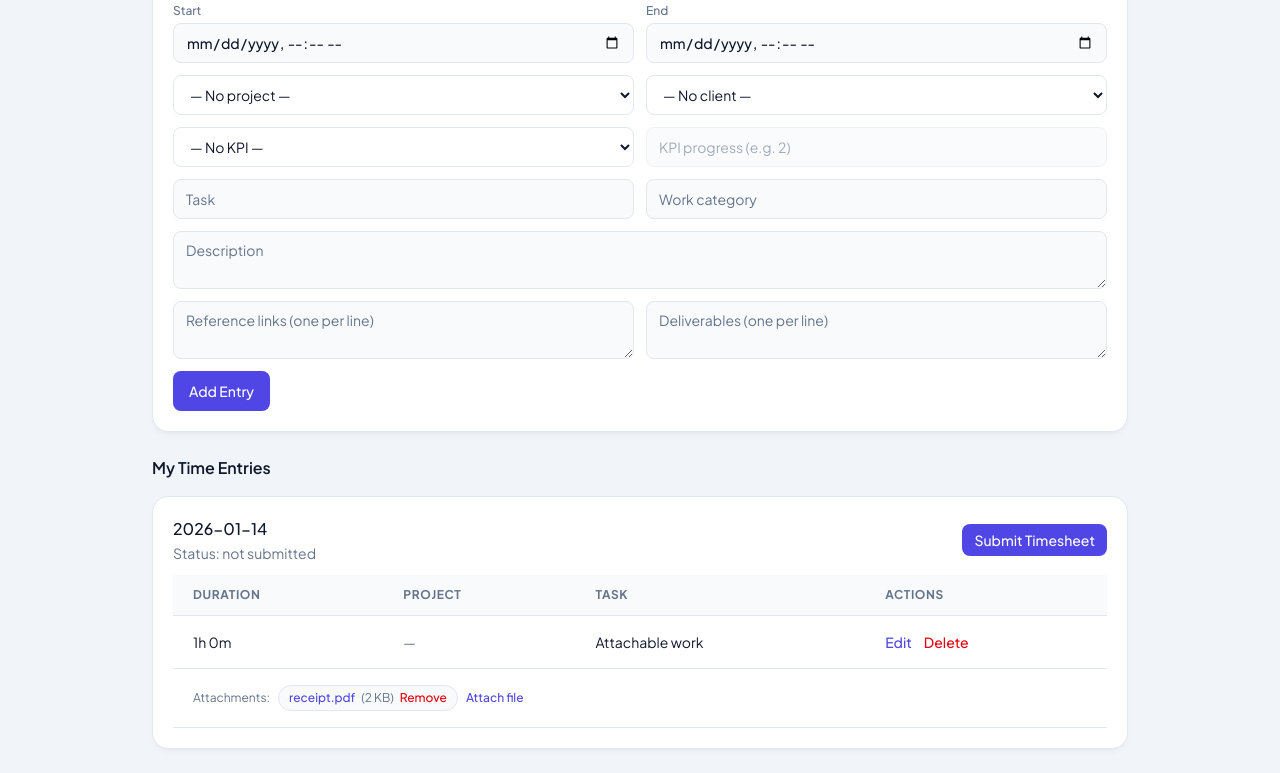
Test: TimeTrackingPage › removes an attachment from an editable entry
The image size is (1280, 773).
(page scrolled)
Step 1. Click the button "Remove" → {"x": 423, "y": 698}, box [400,690,447,706]
(page scrolled)
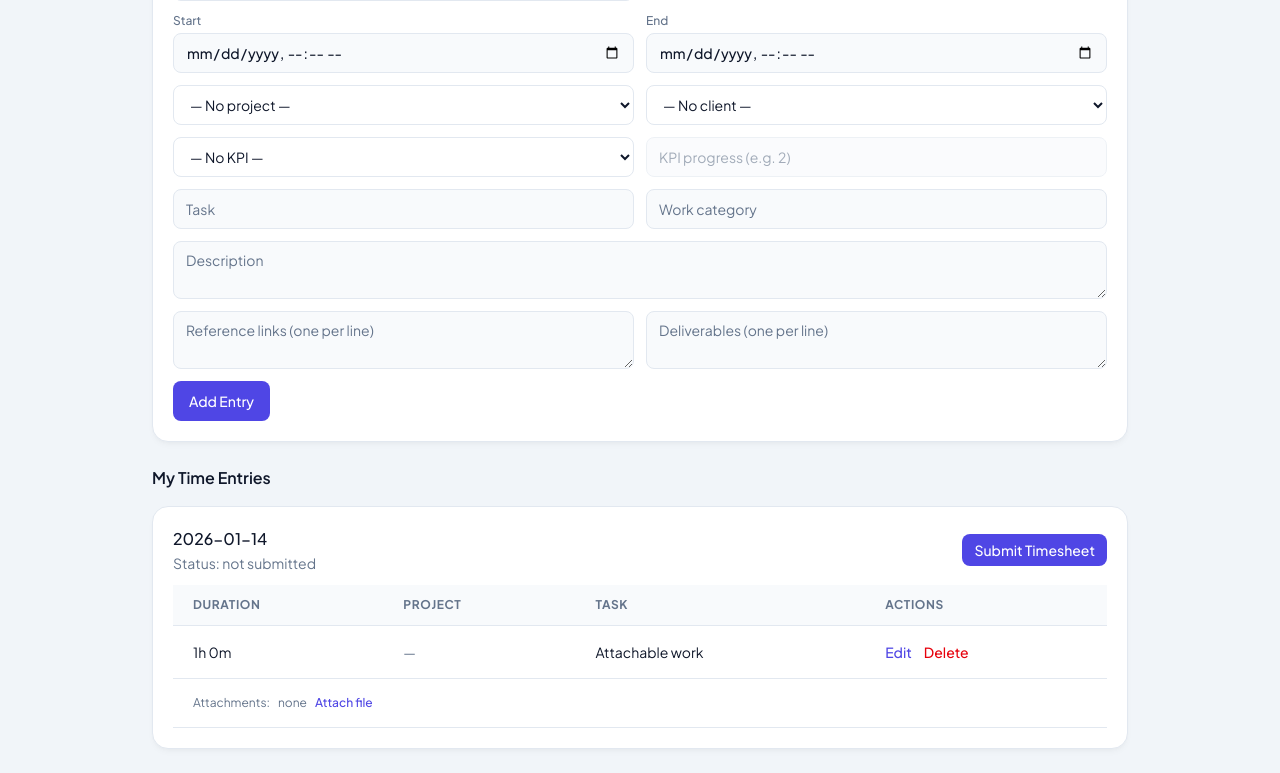
Now the button "receipt.pdf" is gone
